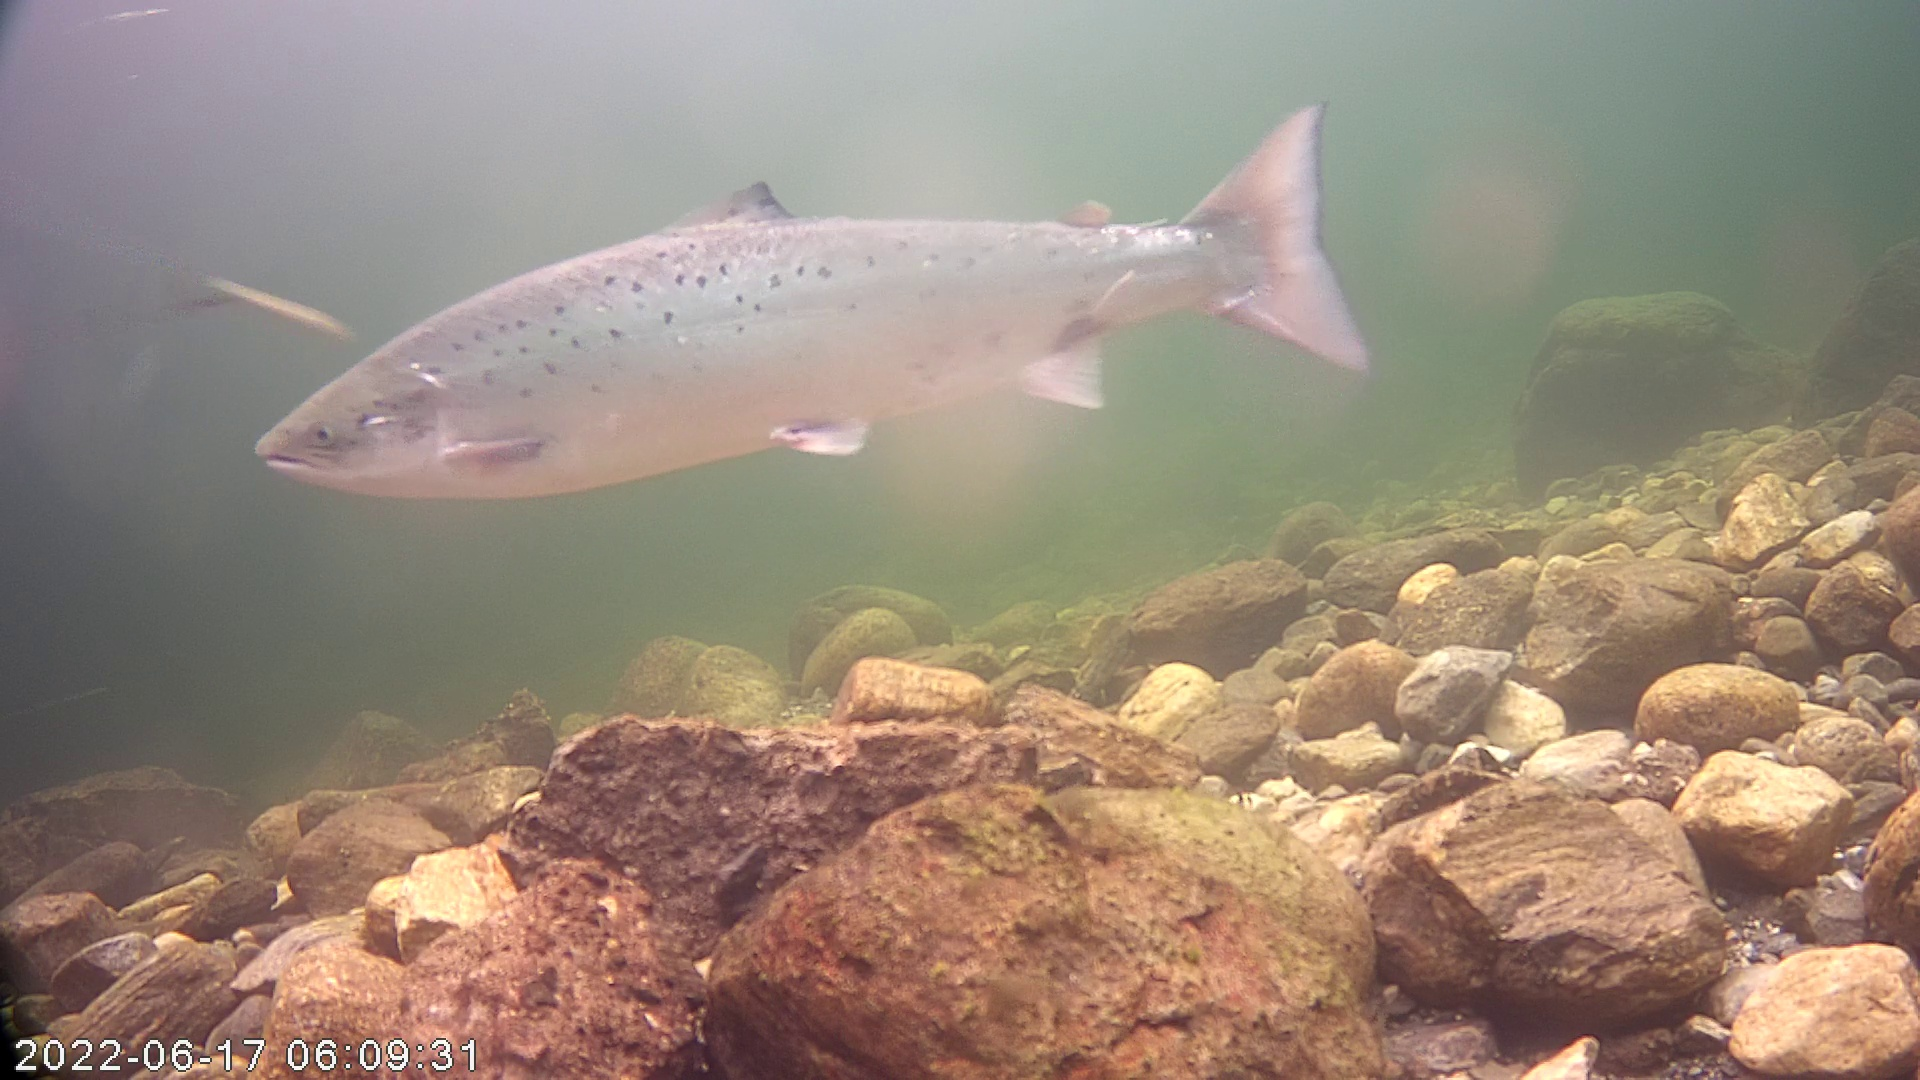salmon: (248, 98, 1375, 505)
